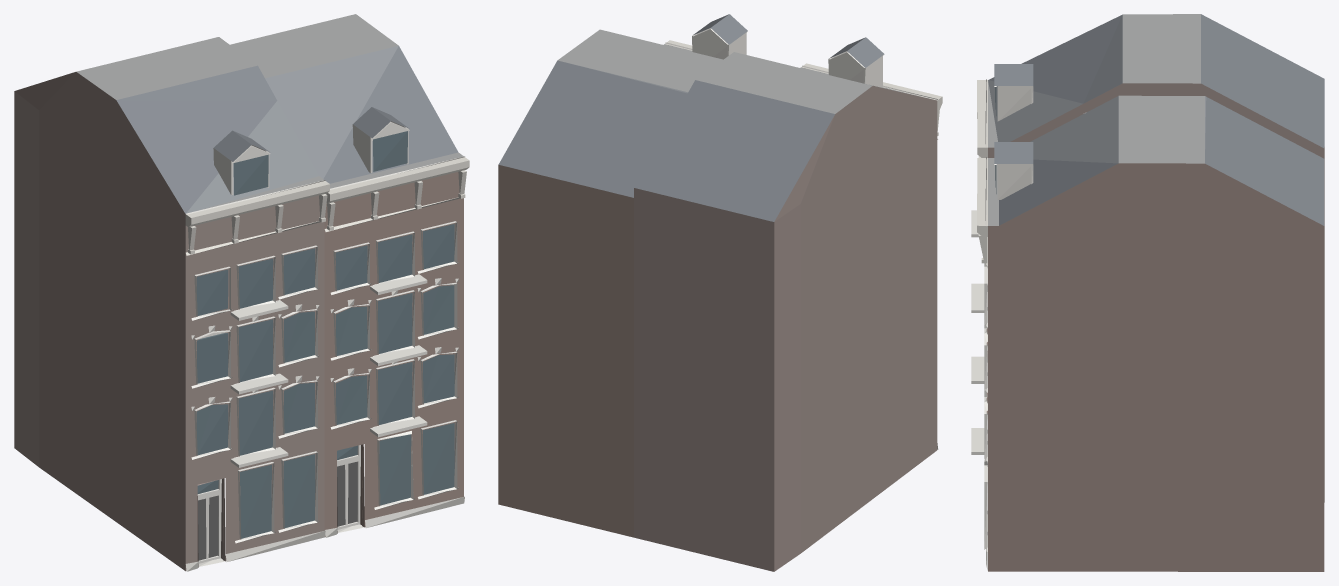
File: chunk-face-helmers-40-60-r1.lod2.glb
3 renders of one model, left to right at view 1: azimuth 30°, elevation 25°; view 2: azimuth 150°, elevation 25°; view 3: azimuth 270°, elevation 25°, orthographic. The views are drawn at different scales.
Visible parts, largest first — view 1: lod2; view 2: lod2; view 3: lod2.
Boxes of the visible parts, x1,y1,x2,y2 form: lod2: (14,14,469,571); lod2: (498,14,942,571); lod2: (971,14,1324,571).
Bounding box in the file's own units: 11.9 × 16.97 × 12.92.
